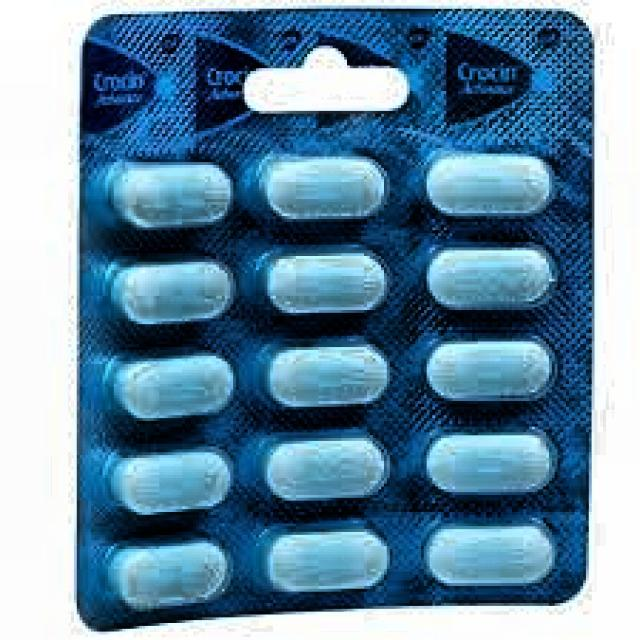Crocin: (84, 18, 583, 148)
